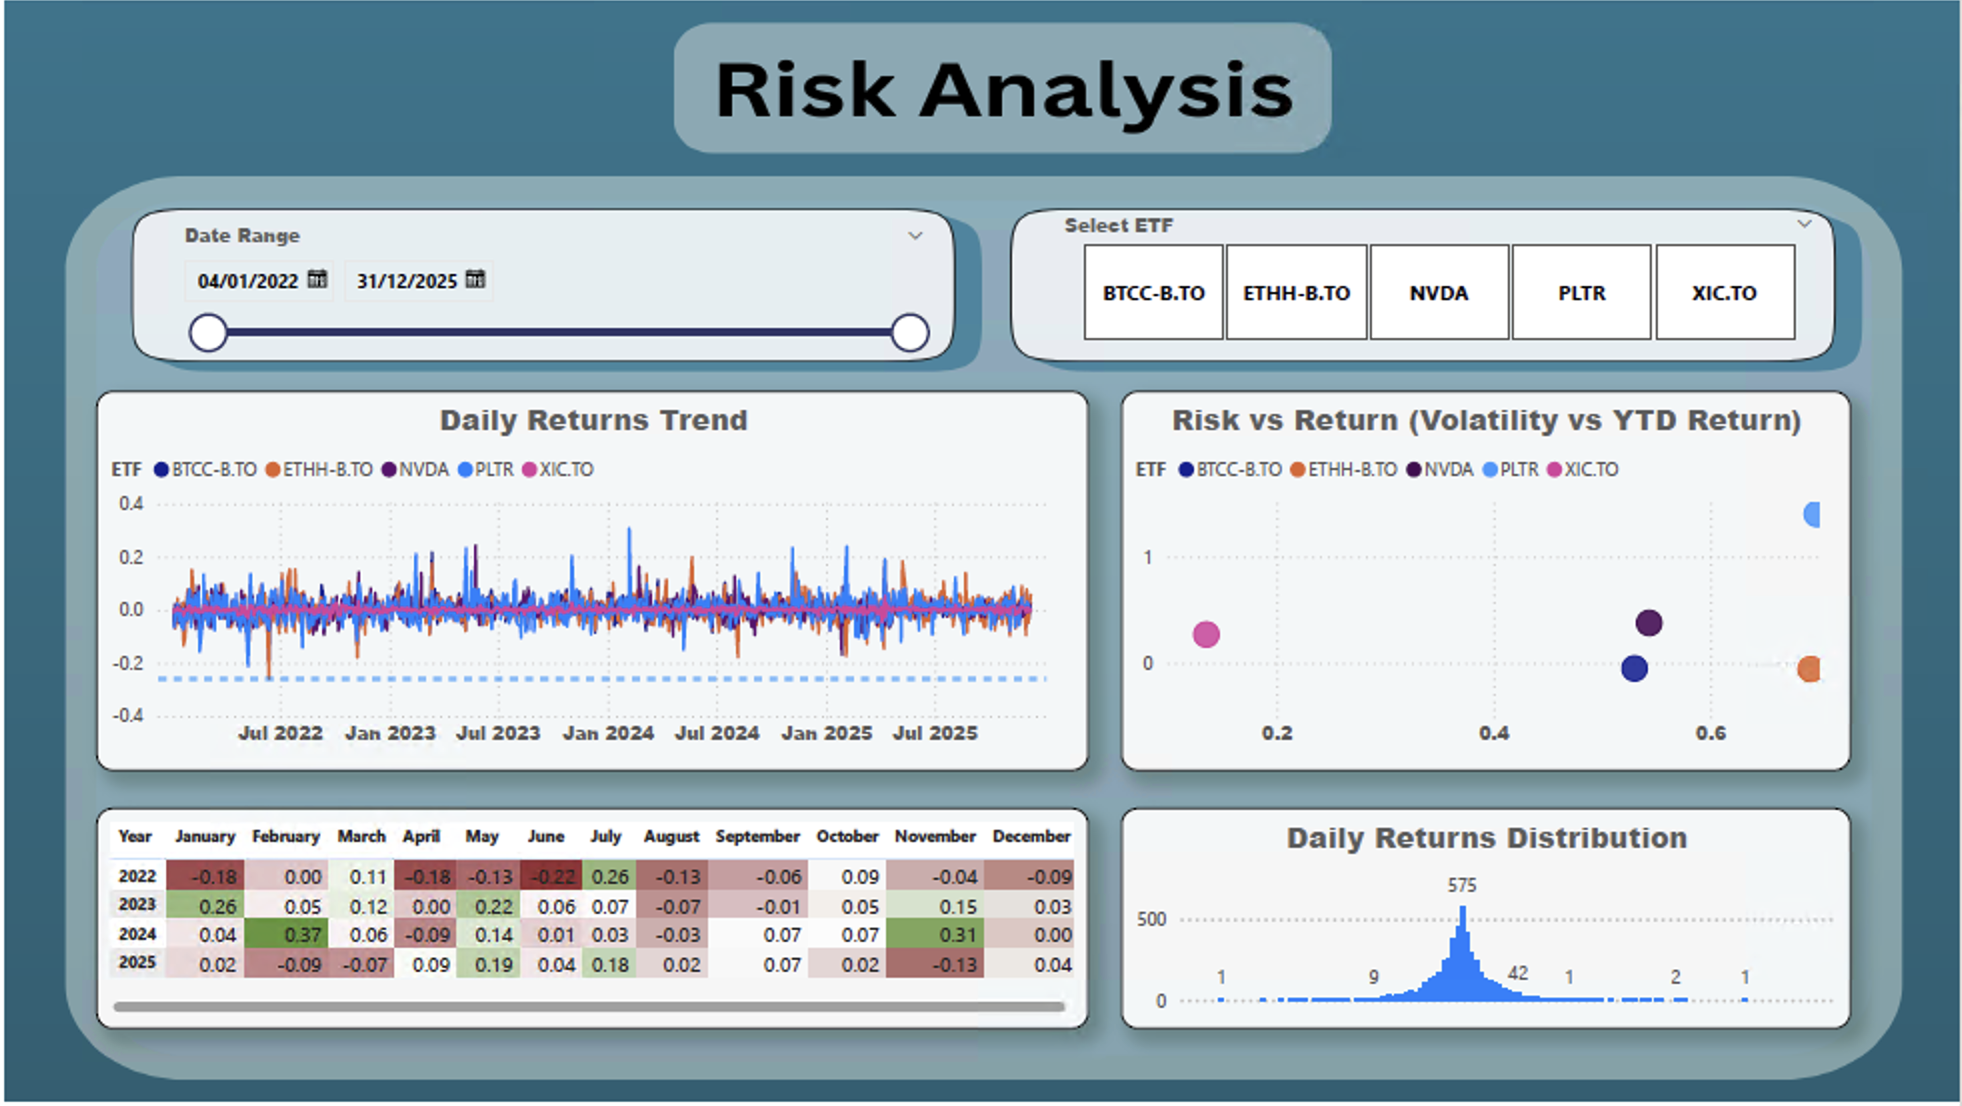

The page's visual inventory and layout, read from the dashboard file:
{"tool":"powerbi","page":{"name":"Risk Analysis","canvas":[1280,720],"ordinal":1},"visuals":[{"type":"scatterChart","title":"Risk vs Return (Volatility vs YTD Return)","fields":{"X":["Sheet1.Volatility_KPI"],"Y":["Sheet1.YTD_Return_KPI"],"Series":["Sheet1.ETF"]},"box":[730.4,254.8,477.6,248.8],"z":0},{"type":"lineChart","title":"Daily Returns Trend","fields":{"Category":["clean.Date"],"Y":["Avg(clean.MetricValue)"],"Series":["clean.ETF"]},"box":[59,254.8,650.5,248.8],"z":1000},{"type":"pivotTable","title":"Monthly Returns Heatmap","fields":{"Rows":["clean.Date.Variation.Date Hierarchy.Year"],"Columns":["clean.Date.Variation.Date Hierarchy.Month"],"Values":["Avg(clean.MetricValue)"]},"box":[59,527.6,650.5,145.9],"z":2000},{"type":"slicer","fields":{"Values":["Sheet1.ETF"]},"box":[680.5,132.9,514.6,94.9],"z":3000},{"type":"clusteredColumnChart","title":"Daily Returns Distribution","fields":{"Category":["clean.DailyReturnBins"],"Y":["CountNonNull(clean.MetricValue)"]},"box":[730.4,527.6,477.6,145.9],"z":4000},{"type":"slicer","fields":{"Values":["clean.Date"]},"box":[103.9,139.9,508.6,114.9],"z":5000}]}

Visuals, with their boxes in screenshot pixels (x1, y1, x2, y2), scaled from the page's 1280x720 canvas onto the 1962x1106 screenshot:
"Risk vs Return (Volatility vs YTD Return)" scatterChart: BBox(1120, 391, 1852, 774)
"Daily Returns Trend" lineChart: BBox(90, 391, 1088, 774)
"Monthly Returns Heatmap" pivotTable: BBox(90, 810, 1088, 1035)
slicer - Sheet1.ETF: BBox(1043, 204, 1832, 350)
"Daily Returns Distribution" clusteredColumnChart: BBox(1120, 810, 1852, 1035)
slicer - clean.Date: BBox(159, 215, 939, 391)
